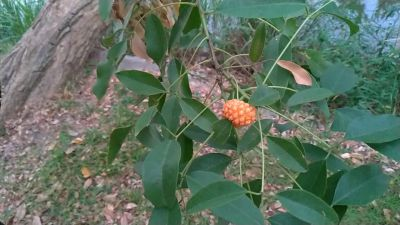eggs: (224, 99, 260, 128)
